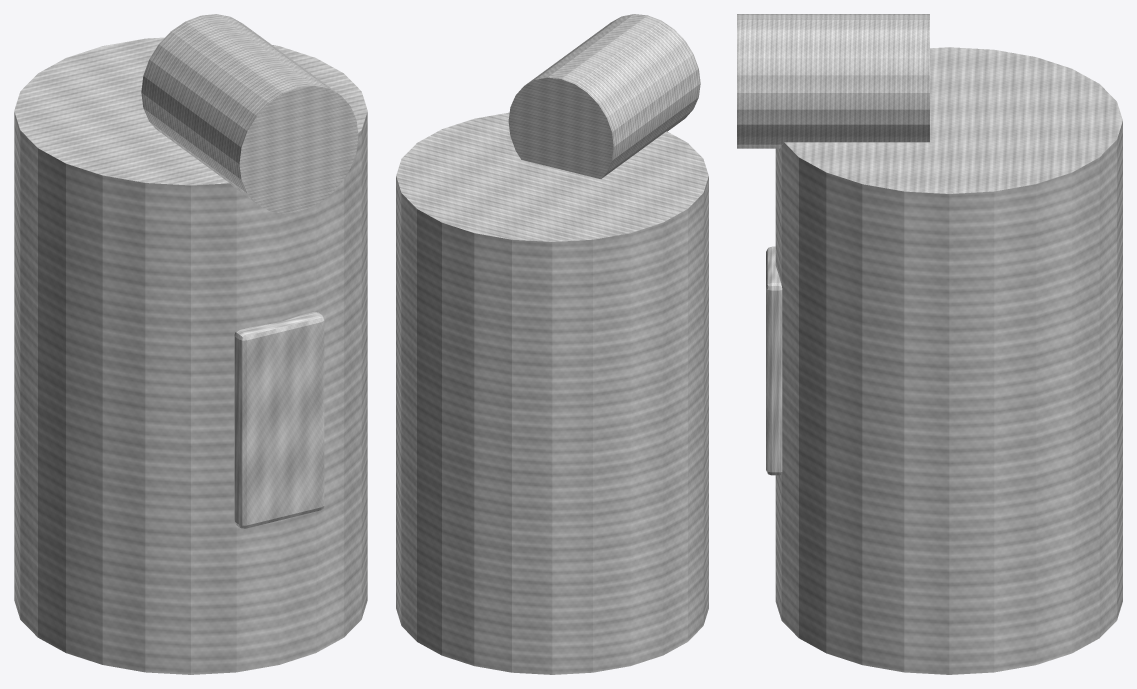
The model's file is consumable-medicinal-inhaler_variant_a.glb.
3 views of the same model, side by side, from view 1: azimuth 30°, elevation 25°; view 2: azimuth 150°, elevation 25°; view 3: azimuth 270°, elevation 25° (orthographic). The views are drawn at different scales.
Visible parts, largest first — view 1: Consumable canister.001, Mouthpiece, Dose window; view 2: Consumable canister.001, Mouthpiece; view 3: Consumable canister.001, Mouthpiece, Dose window.
Boxes of the visible parts, x1,y1,x2,y2 form: Consumable canister.001: (14,37,367,674); Mouthpiece: (141,14,358,213); Dose window: (234,311,324,528); Consumable canister.001: (396,112,708,674); Mouthpiece: (508,14,700,178); Consumable canister.001: (775,47,1122,674); Mouthpiece: (737,14,929,148); Dose window: (766,246,782,475).
Size of what is drawn, in the model's own units: 0.36 by 0.665 by 0.4.
Materials: 3 (3 with a texture image).
